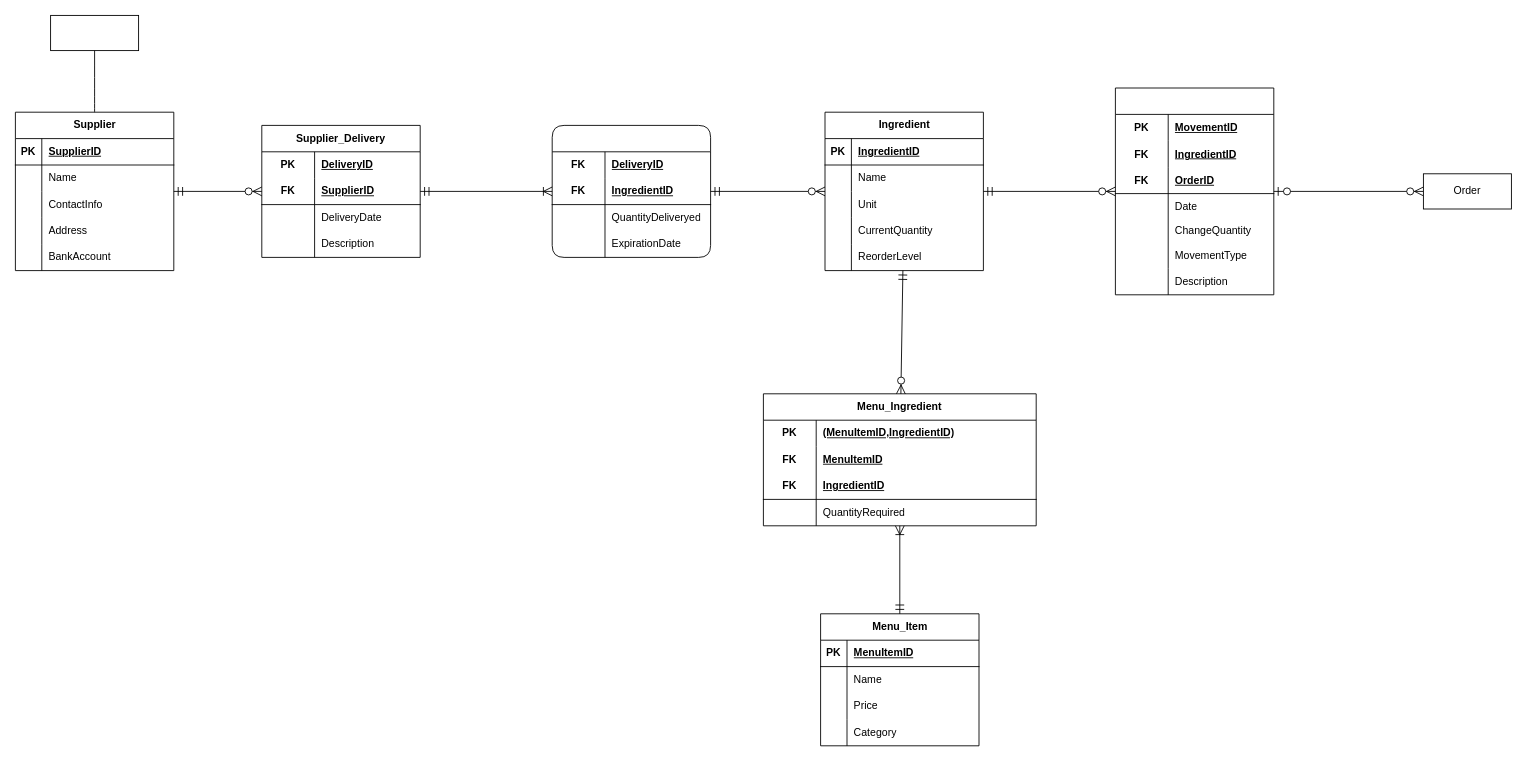
The diagram is 1527 pixels wide and 761 high, and some of its shapes have lost their labels. Each missing label, with the box of its shape:
Delivery_Item: (551, 125, 711, 257)
Person: (50, 15, 139, 51)
Stock_Movement: (1115, 87, 1274, 295)
